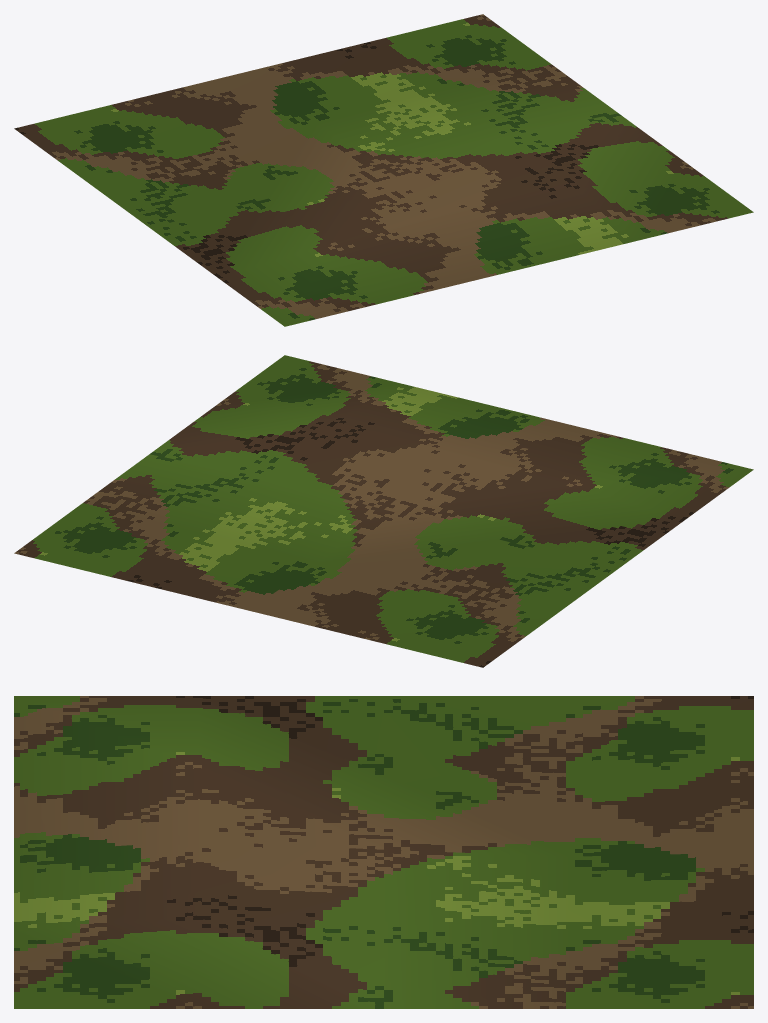
Rendered from land.ground__jungle.glb.
3 renders of one model, top to bottom at view 1: azimuth 30°, elevation 25°; view 2: azimuth 150°, elevation 25°; view 3: azimuth 270°, elevation 25°, orthographic. The views are drawn at different scales.
Visible parts, largest first — view 1: kit_shell_ground; view 2: kit_shell_ground; view 3: kit_shell_ground.
Boxes of the visible parts, left/top/right/bottom form: kit_shell_ground: left=14, top=14, right=753, bottom=326; kit_shell_ground: left=14, top=355, right=753, bottom=667; kit_shell_ground: left=14, top=696, right=753, bottom=1008.
Bounding box in the file's own units: 8 × 0.2256 × 8.
Materials: 1 (1 with a texture image).
